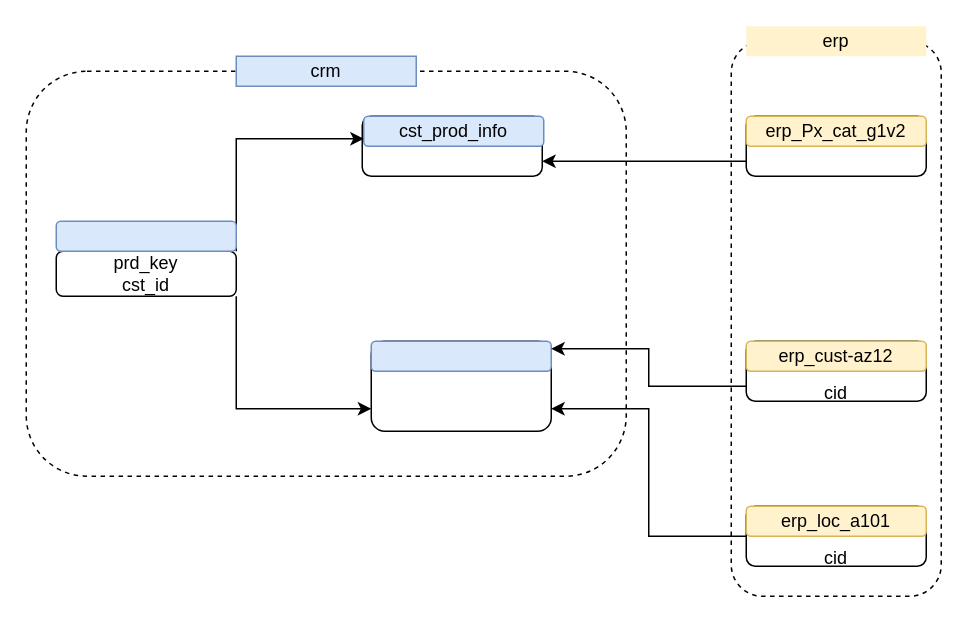
This 968x623 diagram has some shape labels left out. Each missing label, with the box of its shape:
crm_cust_info: (370, 340, 551, 371)
crm_sales_details: (55, 220, 236, 251)
cst_id cst_key: (370, 340, 551, 431)
id: (745, 115, 926, 176)
prd_key: (361, 115, 542, 176)
